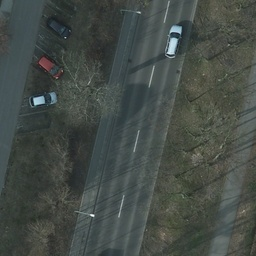car: (164, 24, 183, 60), (44, 16, 71, 41), (22, 93, 56, 112), (38, 56, 64, 80)
